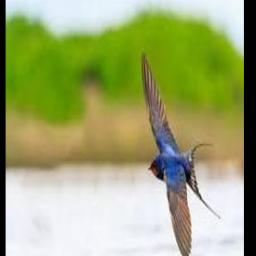Swallow: (141, 48, 222, 256)
